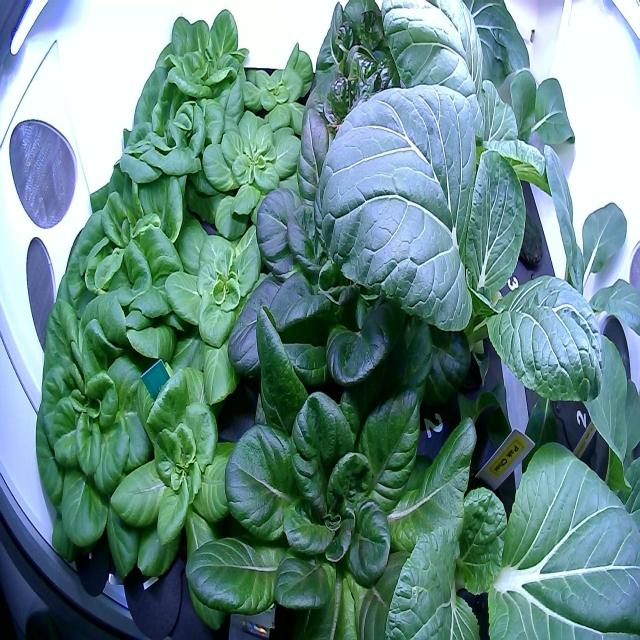Ready: (180, 295, 486, 640), (219, 98, 489, 427), (28, 291, 186, 574), (49, 158, 207, 395), (112, 78, 237, 224), (299, 41, 425, 176), (136, 4, 249, 121), (303, 0, 414, 109)
young: (102, 351, 265, 631), (154, 203, 315, 426), (186, 89, 326, 266), (229, 39, 333, 154)
